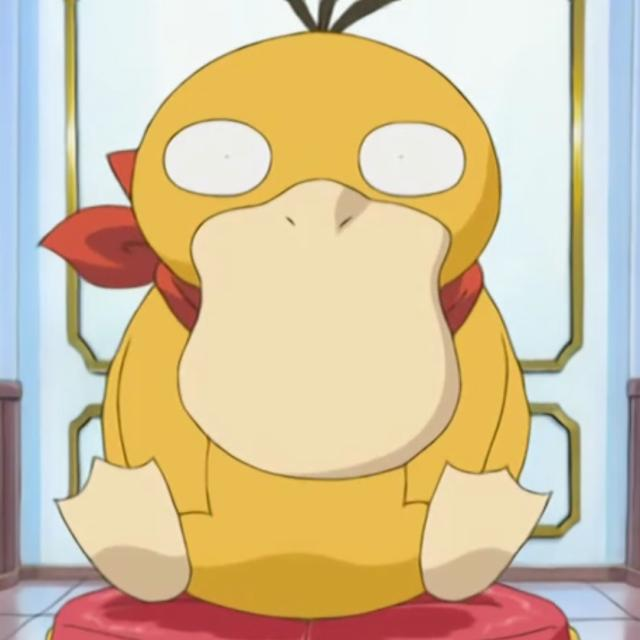Psyduck: (112, 29, 532, 612)
